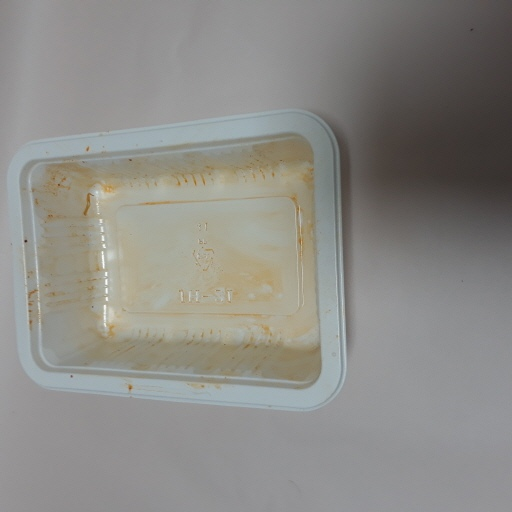Plastic_4: (8, 110, 347, 415)
